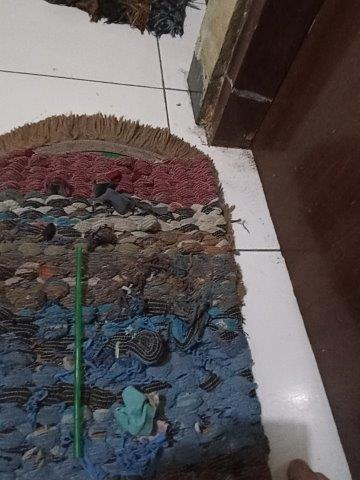sedotan: (73, 248, 82, 458)
